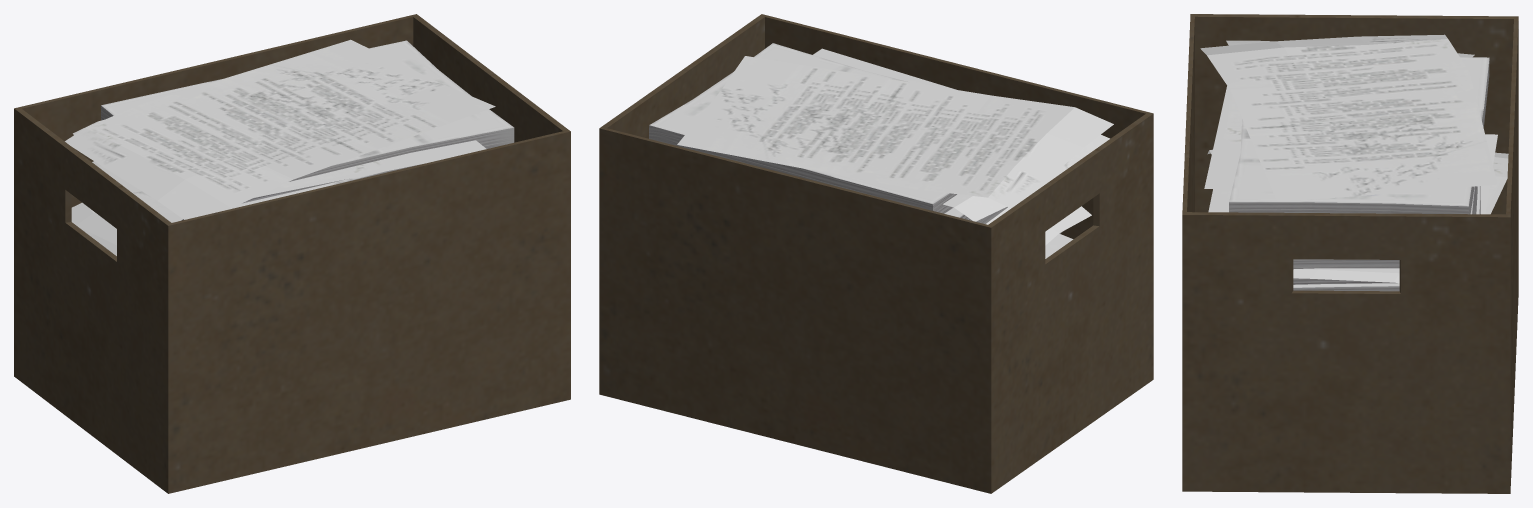
Rendered from file_boxes_02.glb.
The picture shows the model from 3 angles, left to right: view 1: azimuth 30°, elevation 25°; view 2: azimuth 150°, elevation 25°; view 3: azimuth 270°, elevation 25°; orthographic projection. The views are drawn at different scales.
Parts seen in each view (by area): view 1: File Boxes.001; view 2: File Boxes.001; view 3: File Boxes.001.
Part boxes in pixels (x1,y1,x2,y2): File Boxes.001: (14, 14, 570, 493); File Boxes.001: (599, 14, 1153, 493); File Boxes.001: (1182, 14, 1518, 493).
Bounding box in the file's own units: 1.79 × 1.14 × 1.25.
2 materials, 2 textured.
